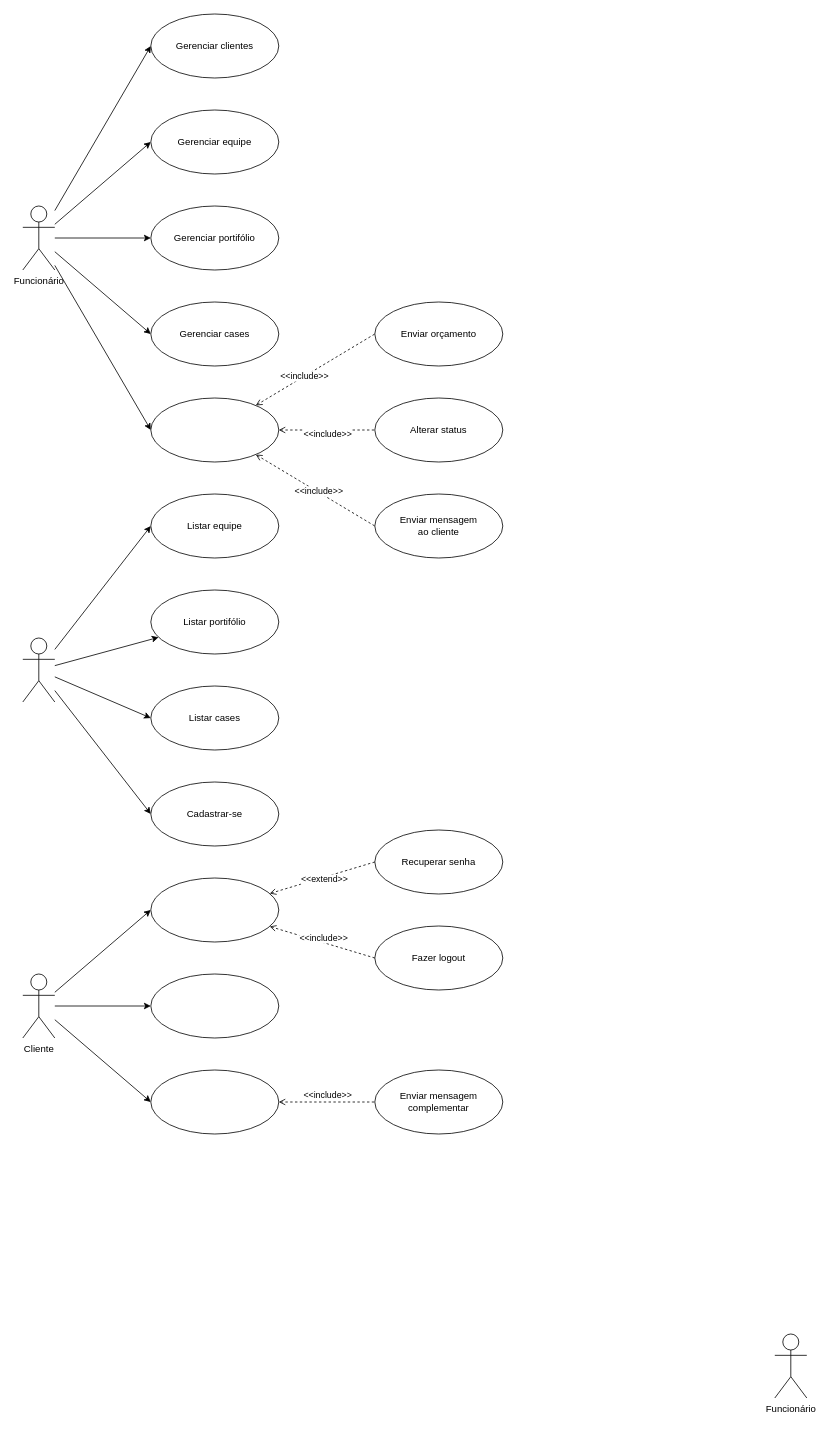
Some shapes in this 830 by 1429 pixel diagram are drawn without their labels. The centre of each missing label's shape, as x and y in pixels:
Fazer login: the point at 214,909
Gerenciar solicitação: the point at 214,429
Solicitar serviço: the point at 214,1005
Visitante: the point at 38,669
Visualizar solicitações: the point at 214,1101
